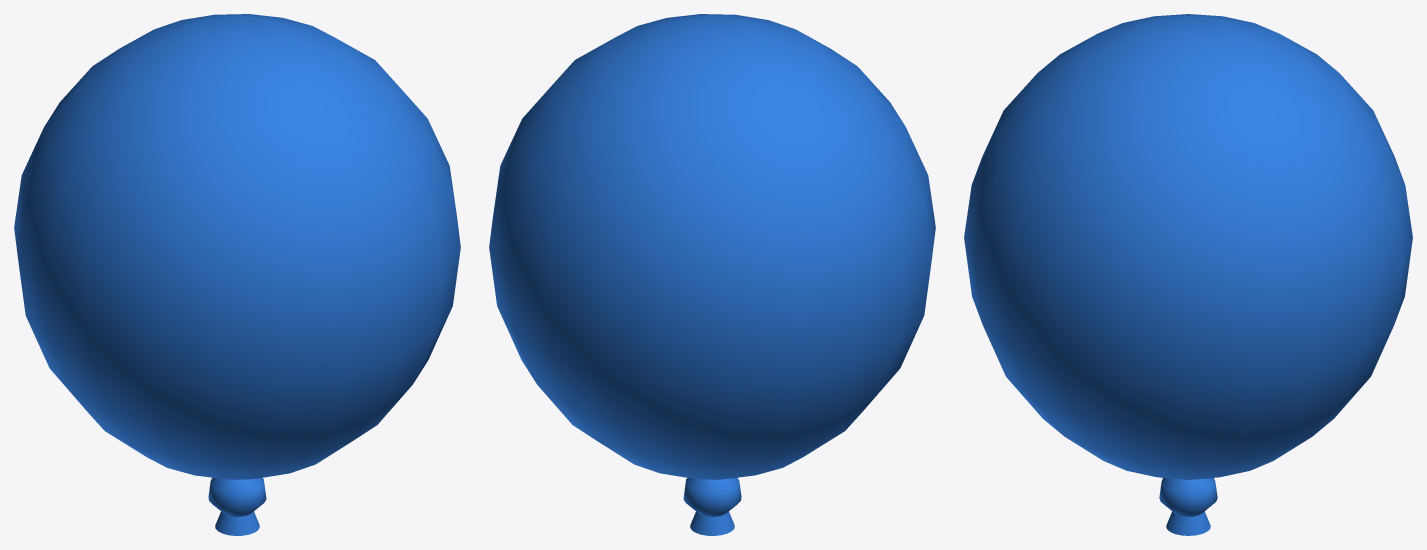
Rendered from Balloon_Blue.fbx.
3 views of the same model, side by side, from view 1: azimuth 30°, elevation 25°; view 2: azimuth 150°, elevation 25°; view 3: azimuth 270°, elevation 25° (orthographic).
Parts seen in each view (by area): view 1: Balloon_Blue; view 2: Balloon_Blue; view 3: Balloon_Blue.
Part boxes in pixels (x1,y1,x2,y2): Balloon_Blue: (14,14,460,535); Balloon_Blue: (489,14,935,535); Balloon_Blue: (964,14,1412,535).
Bounding box in the file's own units: 0.28 × 0.3388 × 0.28.
